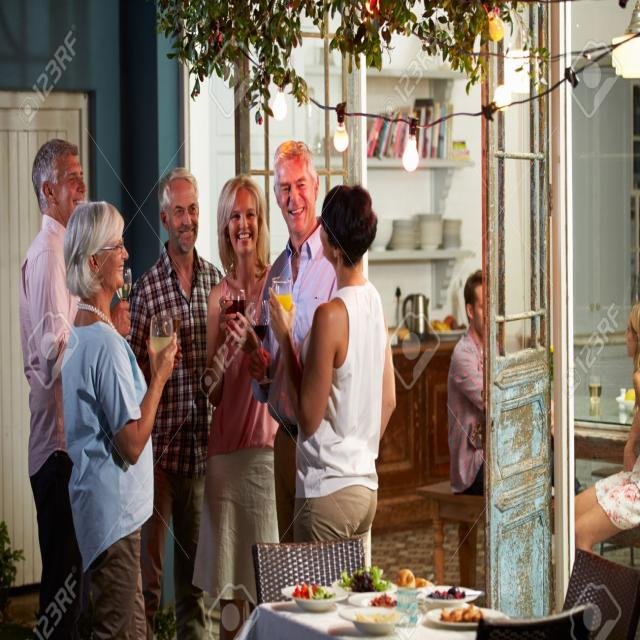body: (62, 192, 182, 640), (266, 183, 398, 545), (127, 166, 224, 636), (246, 138, 341, 548), (18, 136, 86, 638), (206, 172, 281, 605), (446, 268, 583, 496), (574, 302, 640, 556)
